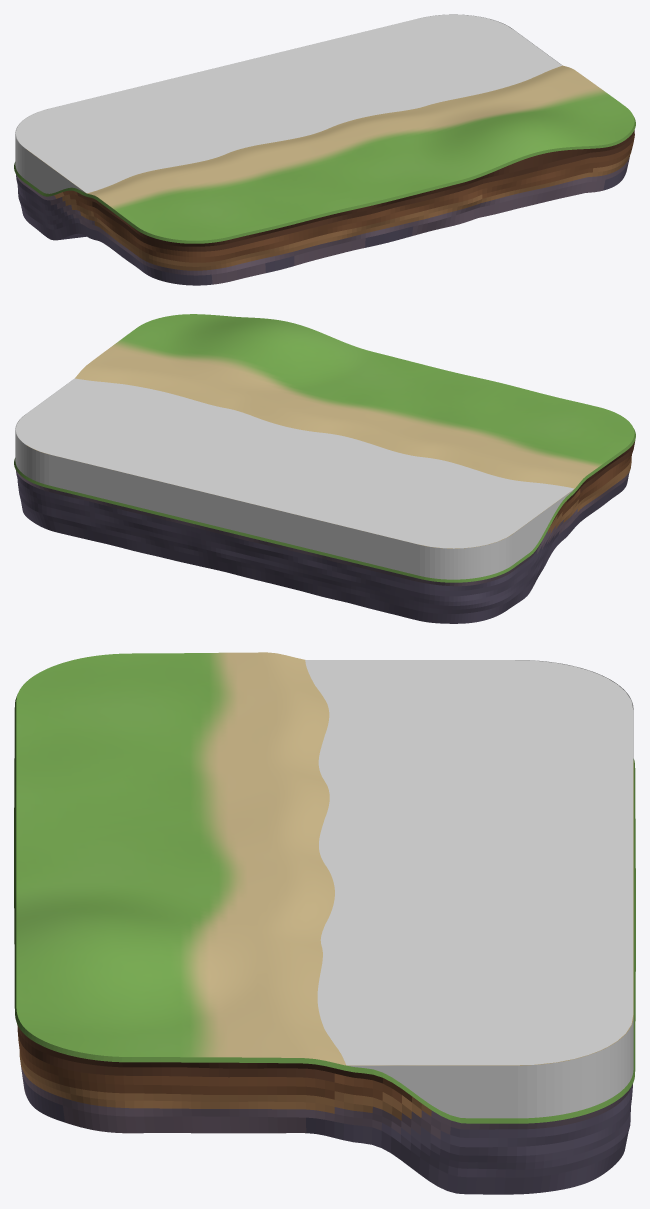
File: terrain_level10.fbx
The picture shows the model from 3 angles, top to bottom: view 1: azimuth 30°, elevation 25°; view 2: azimuth 150°, elevation 25°; view 3: azimuth 270°, elevation 25°; orthographic projection. The views are drawn at different scales.
Visible parts, largest first — view 1: Ground, Water_sea; view 2: Ground, Water_sea; view 3: Ground, Water_sea.
Boxes of the visible parts, x1,y1,x2,y2 form: Ground: [14, 65, 635, 285]; Water_sea: [15, 14, 562, 193]; Ground: [14, 314, 635, 623]; Water_sea: [15, 378, 573, 579]; Ground: [14, 652, 635, 1194]; Water_sea: [305, 660, 633, 1118].
Bounding box in the file's own units: 14.07 × 2.68 × 9.07.
